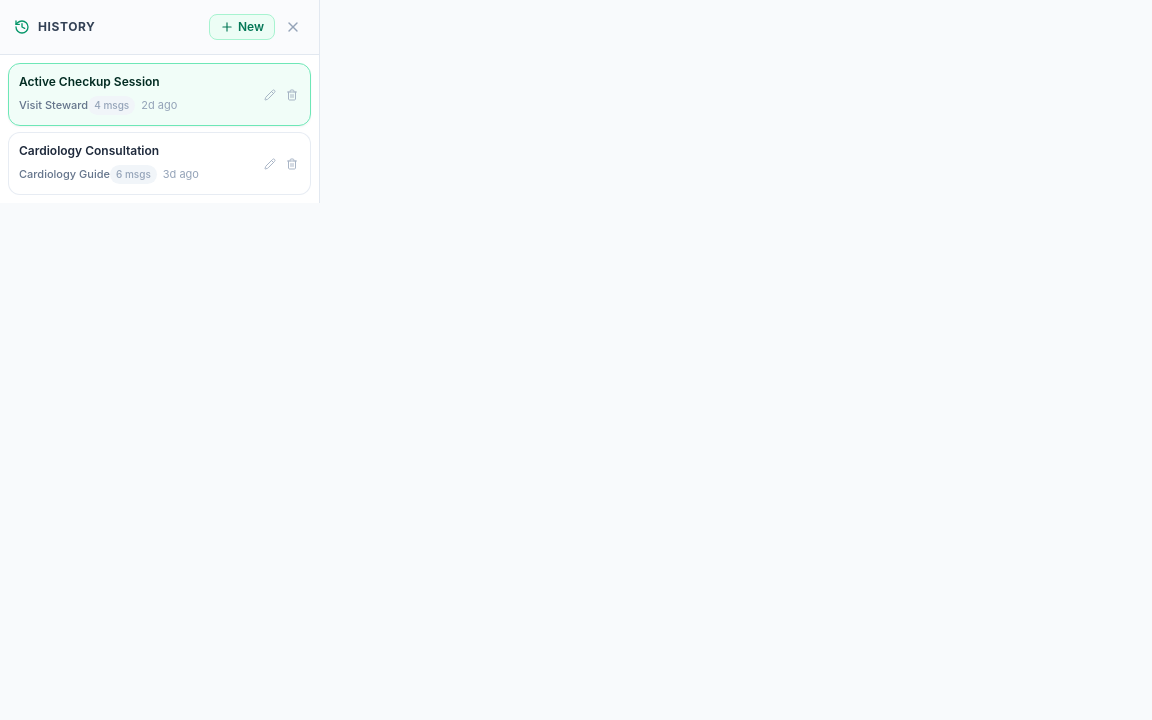
it: SessionHistorySidebar Component › shows delete confirmation dialog with role alertdialog and deletes session on confirm
What coordinates should you click on to do the following:
click the button with test id "delete-session-thread-past-2"
I would click on:
 (292, 164)
Its box is [282,154,302,174].
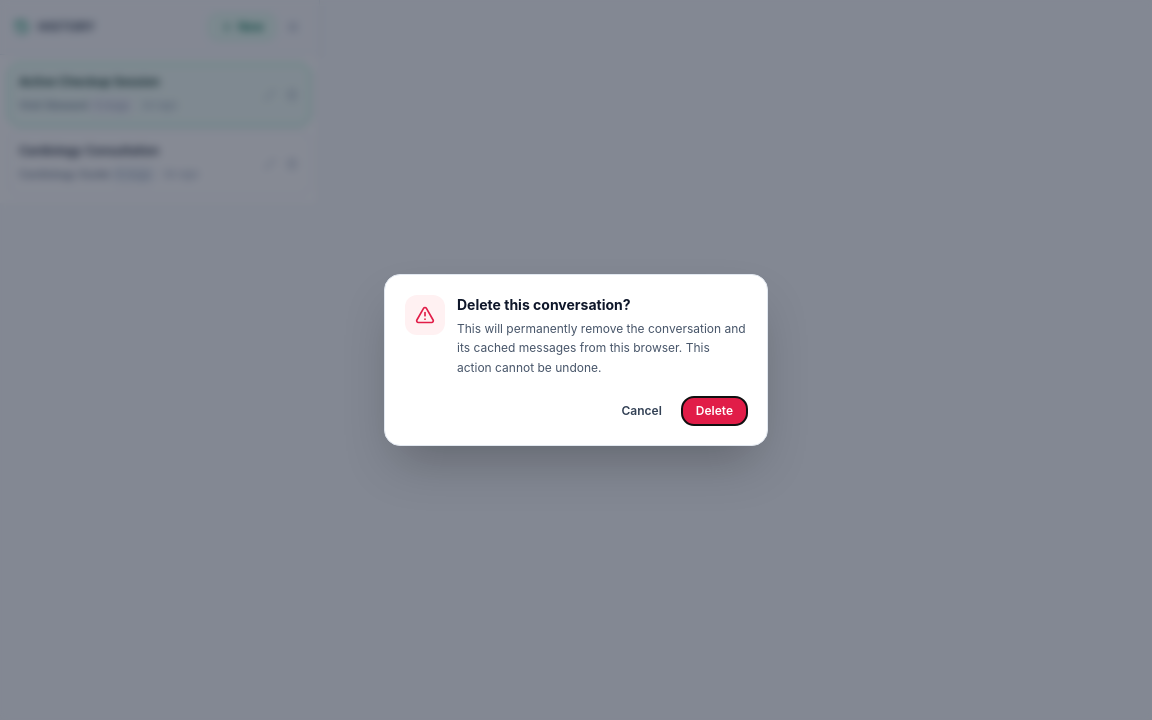
Check: the dialog is shown
Check: the heading "Delete this conversation?" is shown, box [457,296,631,313]
# Click confirm delete
What coordinates should you click on to do the following:
click the button with test id "confirm-delete-session-btn"
I would click on:
 (714, 411)
Its box is [682,397,747,425].
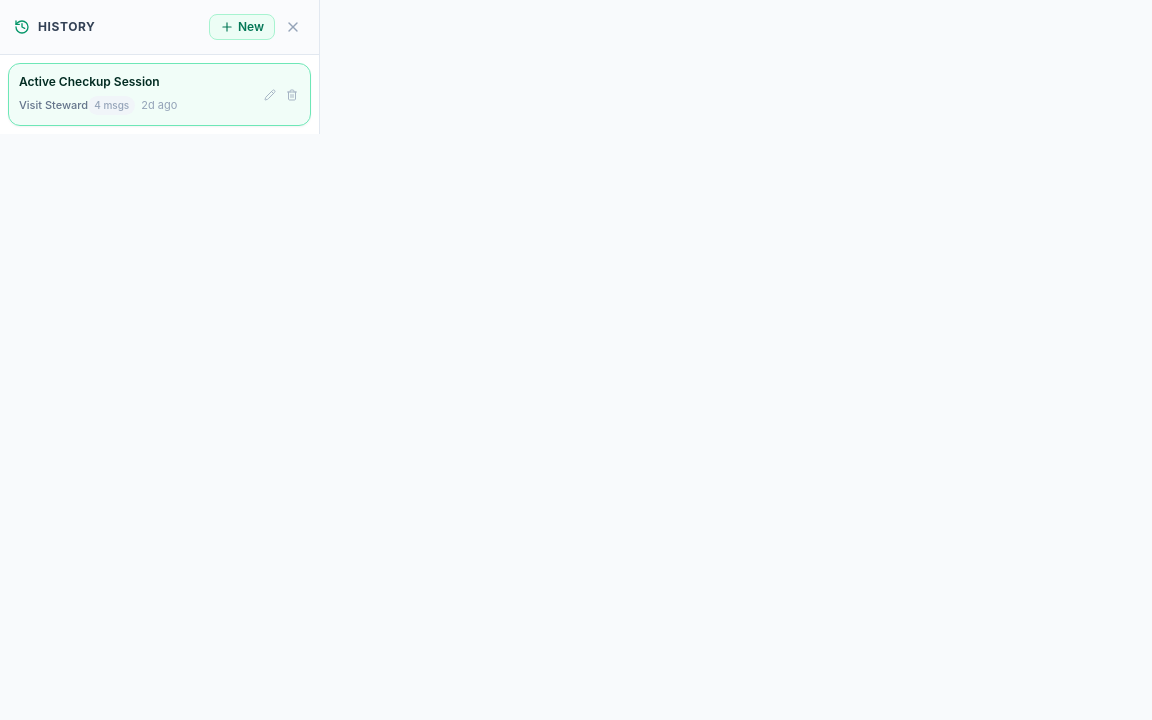
Check: the button "Cardiology Consultation" is gone
